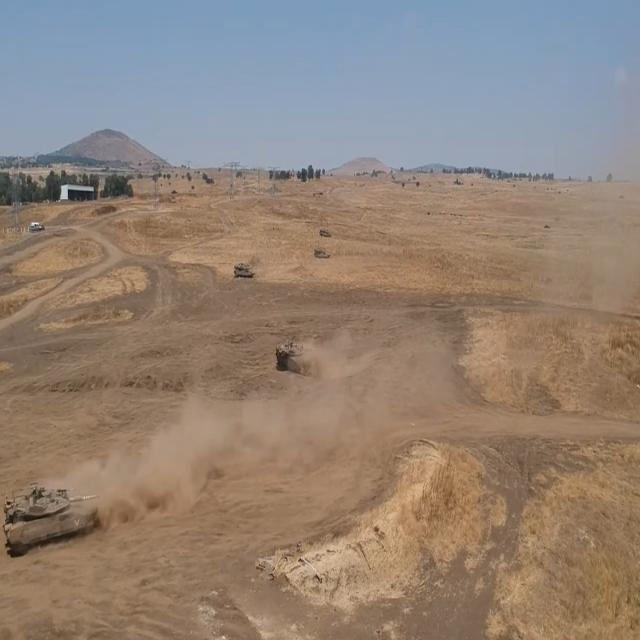tank: (5, 487, 100, 556), (274, 335, 324, 377), (231, 256, 259, 286), (311, 244, 332, 263), (316, 227, 332, 239)
